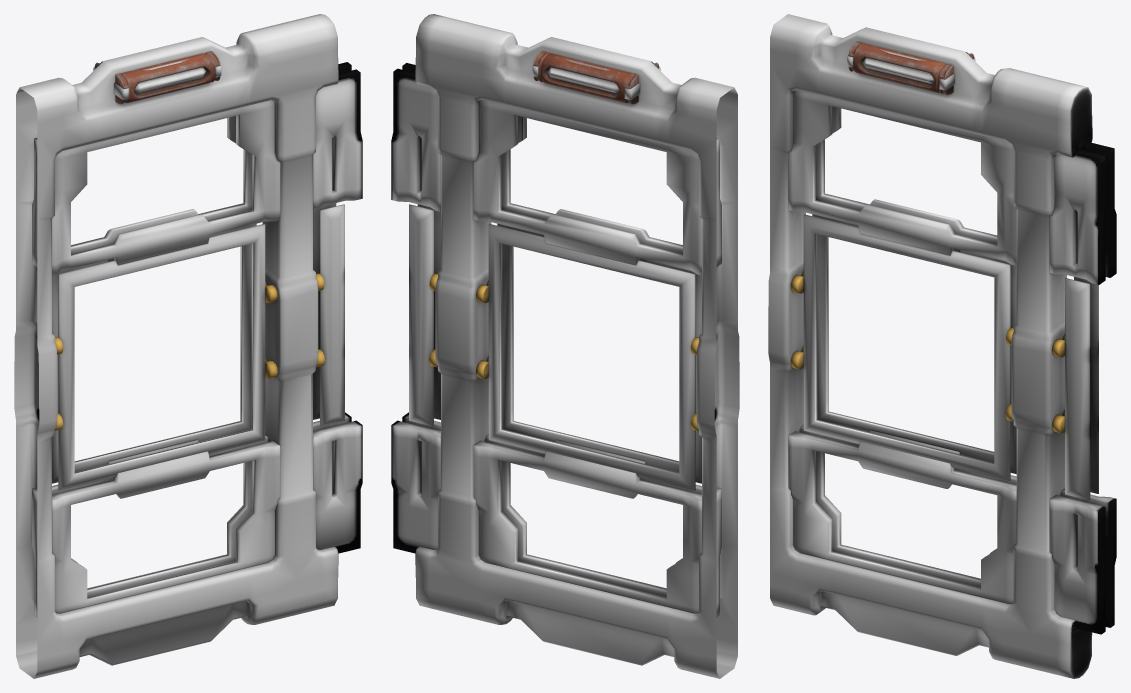
The model's file is DoorGlassLeft.fbx.
3 renders of one model, left to right at view 1: azimuth 30°, elevation 25°; view 2: azimuth 150°, elevation 25°; view 3: azimuth 330°, elevation 25°, orthographic.
Visible parts, largest first — view 1: DoorGlassLeft_LOD0; view 2: DoorGlassLeft_LOD0; view 3: DoorGlassLeft_LOD0.
Part boxes in pixels (x1,y1,x2,y2): DoorGlassLeft_LOD0: (14, 14, 362, 678); DoorGlassLeft_LOD0: (391, 14, 739, 678); DoorGlassLeft_LOD0: (768, 14, 1116, 678).
Size of what is drawn, in the model's own units: 72.39 by 127 by 11.56.
